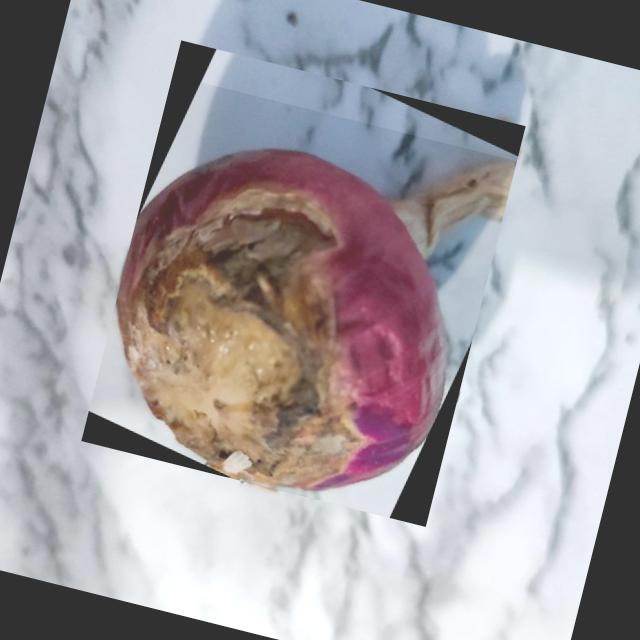rotten: (117, 151, 516, 490)
